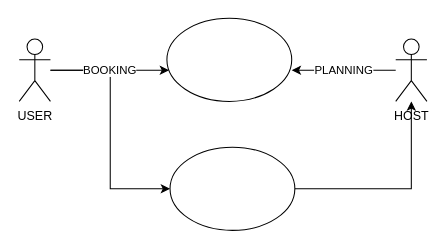
This 446x249 diagram has some shape labels left out. Each missing label, with the centre of its shape:
PROPERTY: (229,59)
REVIEW: (232,188)
